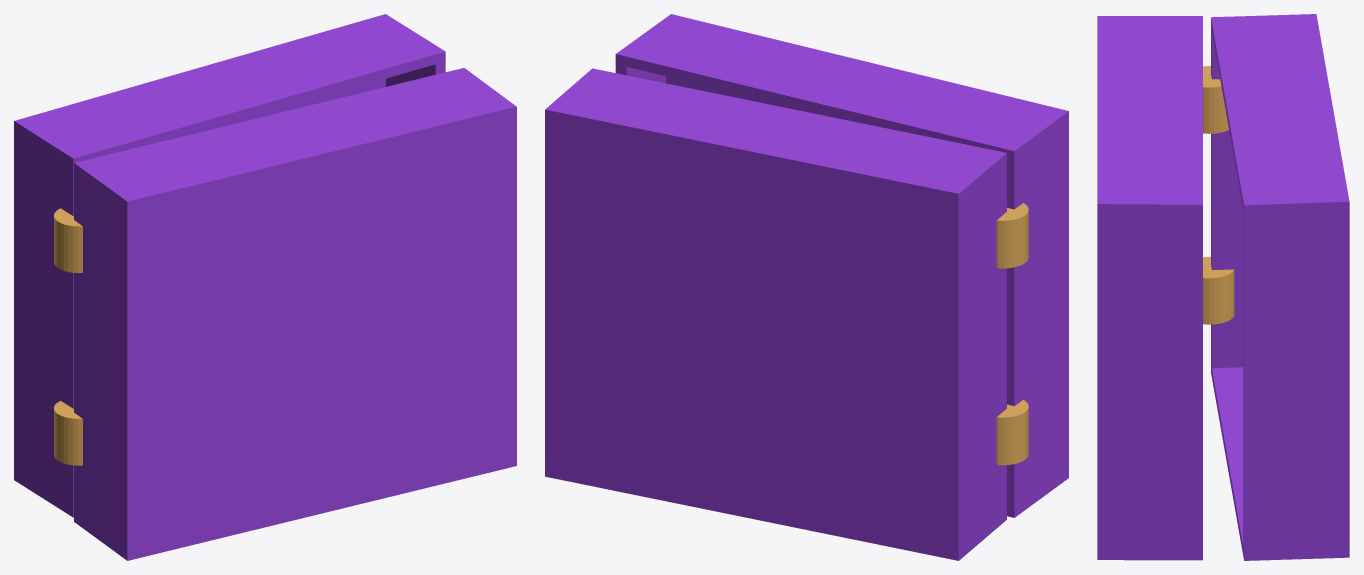
File: koffer.fbx
3 renders of one model, left to right at view 1: azimuth 30°, elevation 25°; view 2: azimuth 150°, elevation 25°; view 3: azimuth 270°, elevation 25°, orthographic. The views are drawn at different scales.
Parts seen in each view (by area): view 1: koffer; view 2: koffer; view 3: koffer.
Boxes of the visible parts, x1,y1,x2,y2 form: koffer: (14, 14, 516, 560); koffer: (545, 14, 1068, 560); koffer: (1097, 14, 1349, 560).
Size of the model in its own units: 879 by 744 by 477.
